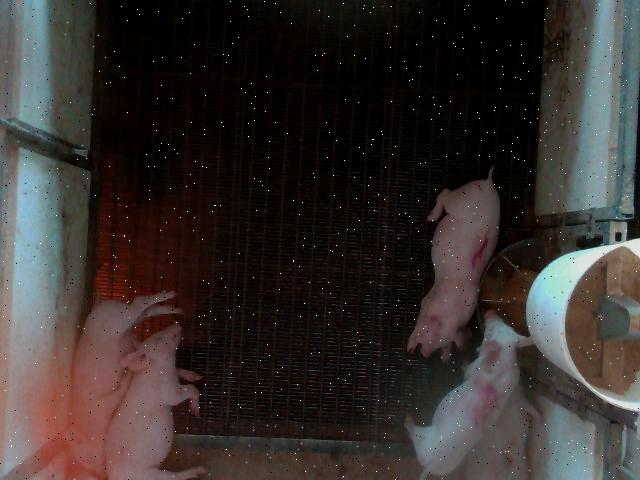pig-1: (408, 166, 500, 361)
pig-3: (450, 384, 536, 479)
pig-5: (405, 311, 530, 478)
